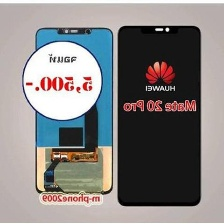phone: (114, 20, 206, 208), (32, 22, 116, 201)
